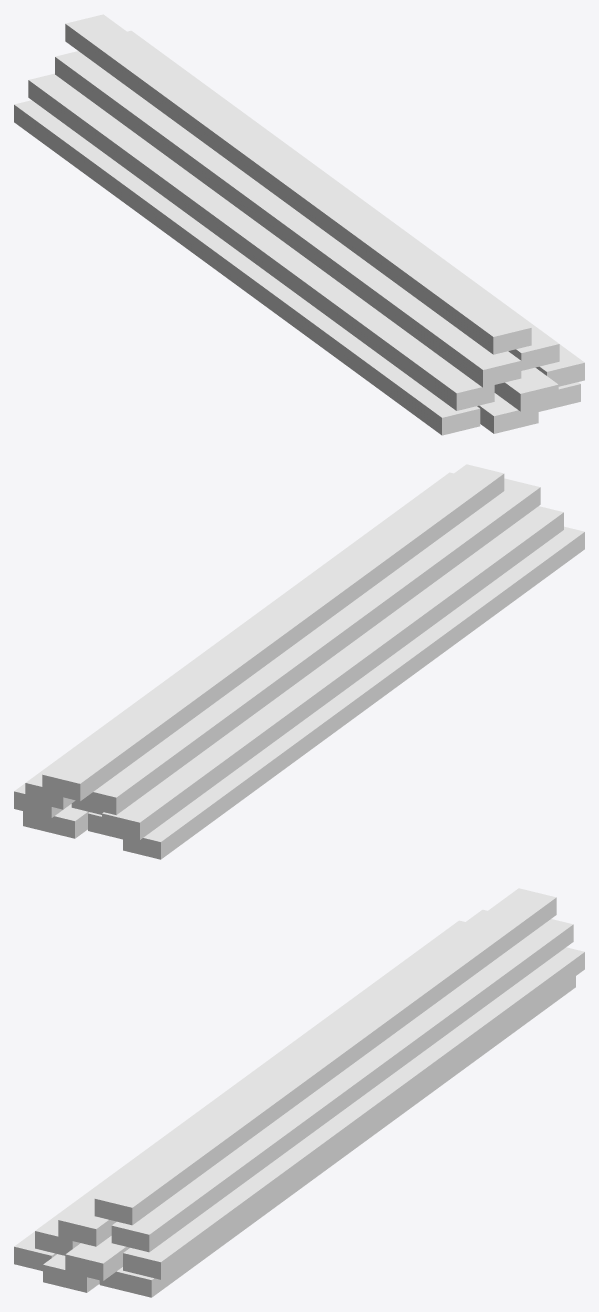
The model's file is Prop_Plank_Stack_01.glb.
The picture shows the model from 3 angles, top to bottom: view 1: azimuth 30°, elevation 25°; view 2: azimuth 150°, elevation 25°; view 3: azimuth 330°, elevation 25°; orthographic projection.
Parts seen in each view (by area): view 1: Prop_Plank_Stack_01; view 2: Prop_Plank_Stack_01; view 3: Prop_Plank_Stack_01.
Boxes of the visible parts, left/top/right/bottom form: Prop_Plank_Stack_01: left=14, top=14, right=584, bottom=435; Prop_Plank_Stack_01: left=14, top=464, right=584, bottom=859; Prop_Plank_Stack_01: left=14, top=888, right=584, bottom=1297.
Size of the model in its own units: 0.687 by 0.3219 by 3.73.
Materials: 1 (1 with a texture image).
